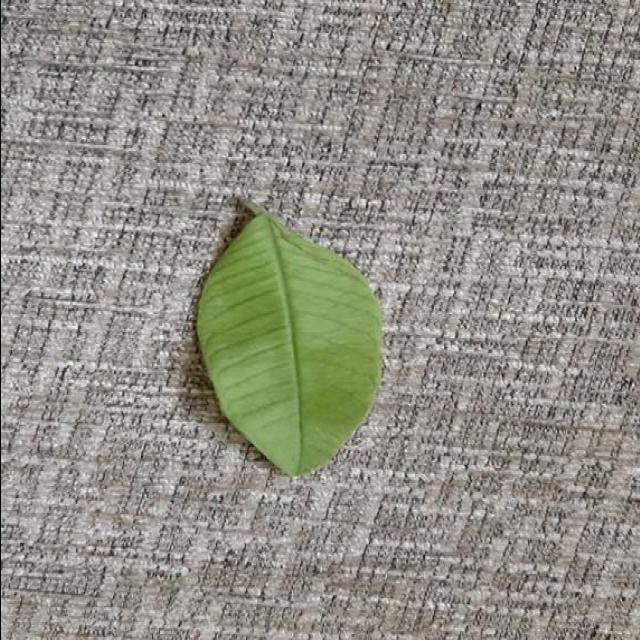leaf: (193, 197, 383, 477)
